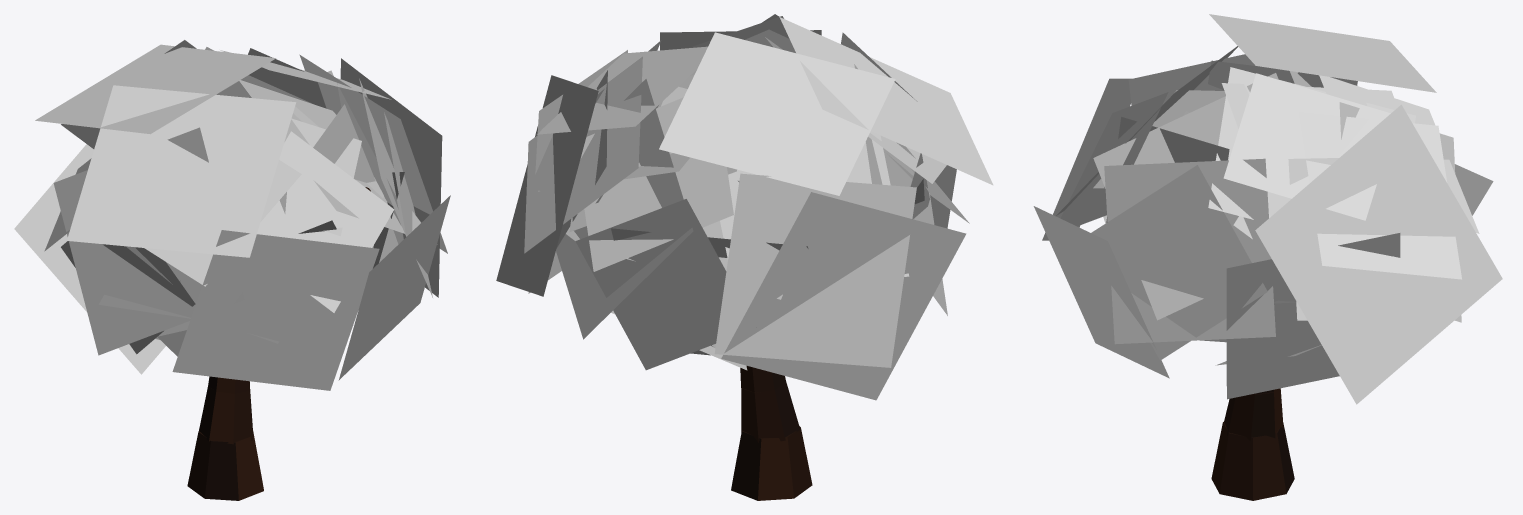
The model's file is leafy-oak.glb.
3 views of the same model, side by side, from view 1: azimuth 30°, elevation 25°; view 2: azimuth 150°, elevation 25°; view 3: azimuth 270°, elevation 25° (orthographic). The views are drawn at different scales.
Visible parts, largest first — view 1: crown, trunk; view 2: crown, trunk; view 3: crown, trunk.
Part boxes in pixels (<box>): crown: <box>14,40,450,390</box>; trunk: <box>187,187,370,500</box>; crown: <box>496,14,993,400</box>; trunk: <box>731,366,812,500</box>; crown: <box>1033,14,1502,404</box>; trunk: <box>1211,388,1294,500</box>.
Bounding box in the file's own units: 5 × 4.98 × 4.95.
